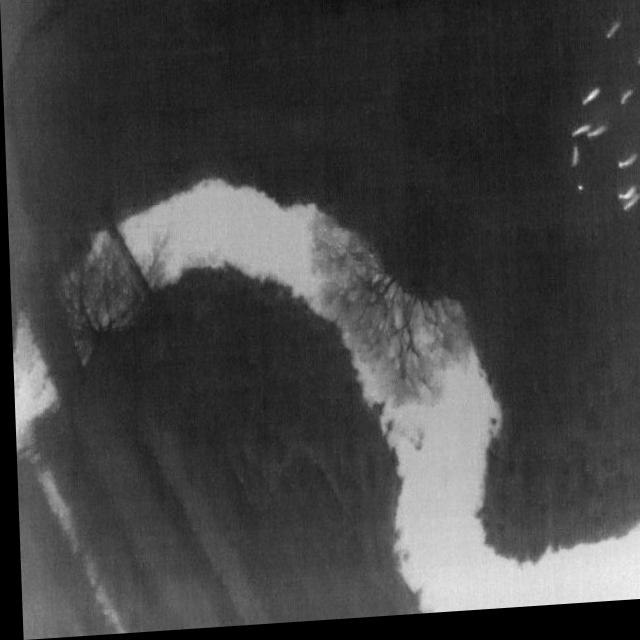deer: (580, 96, 600, 114), (620, 202, 639, 220), (616, 162, 636, 178), (585, 133, 606, 148), (616, 194, 635, 210), (570, 132, 591, 146), (618, 97, 633, 114), (605, 31, 620, 47), (569, 153, 579, 174), (636, 62, 640, 74)
